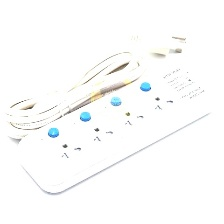three_eye_plug: (12, 56, 220, 197)
